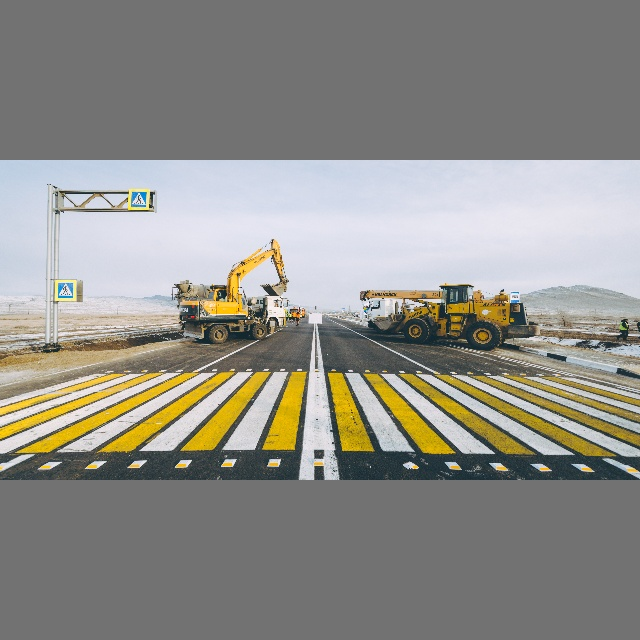Рабочая техника: (175, 240, 289, 343), (361, 284, 529, 349)
